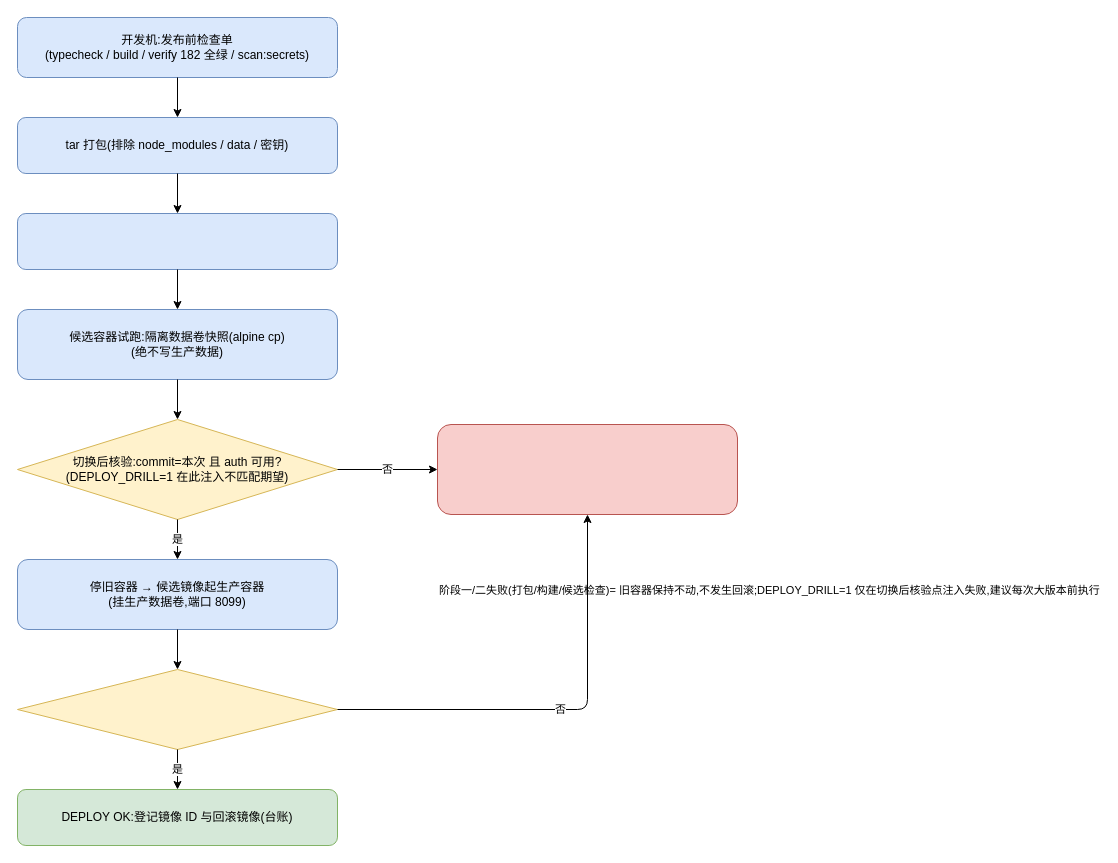
Image size: 1118x863. Some labels were removed from this diagram. The centre of each missing label's shape, as x and y in pixels:
上传生产机 → docker build 候选镜像 :cand: (x=177, y=241)
再验健康通过?: (x=177, y=709)
自动回滚:用旧镜像重启生产容器 (此路径触发时,生产已短暂运行新版本): (x=587, y=469)
